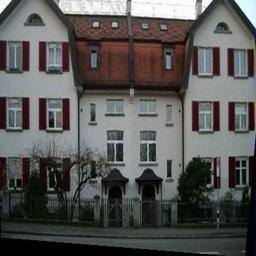building: (0, 0, 256, 233)
